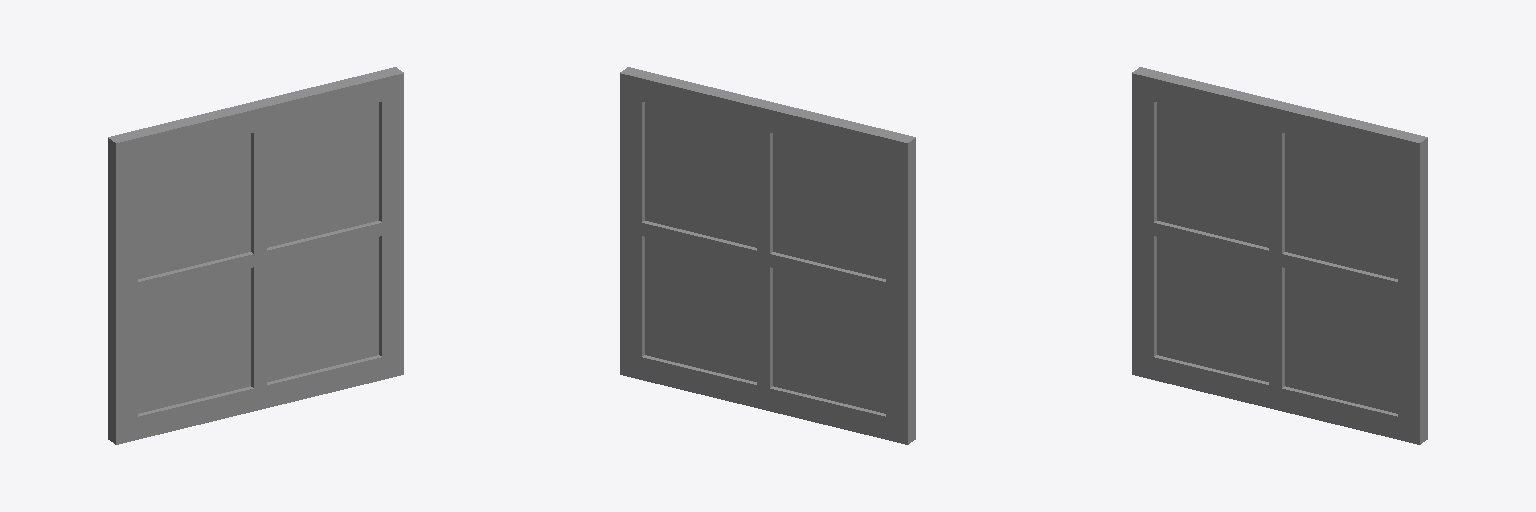
File: Window01Alt.obj
3 views of the same model, side by side, from view 1: azimuth 30°, elevation 25°; view 2: azimuth 150°, elevation 25°; view 3: azimuth 330°, elevation 25° (orthographic).
Visible parts, largest first — view 1: Cube_Cube.001; view 2: Cube_Cube.001; view 3: Cube_Cube.001.
Part boxes in pixels (x1,y1,x2,y2): Cube_Cube.001: (108,67,403,444); Cube_Cube.001: (620,67,915,444); Cube_Cube.001: (1132,67,1427,444).
Bounding box in the file's own units: 200 × 200 × 10.15.